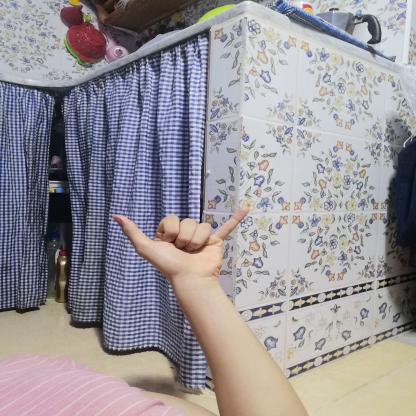YA: (102, 194, 263, 286)
